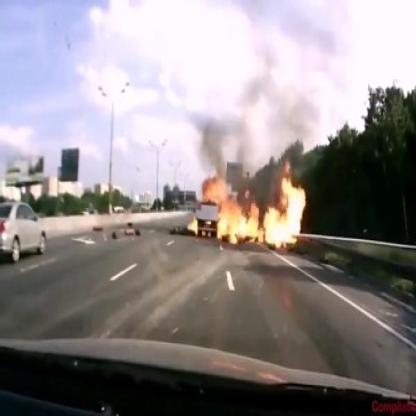fire: (204, 156, 308, 253), (186, 209, 200, 238)
